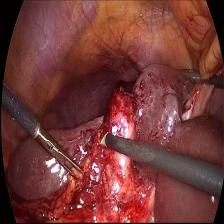Grasper: (34, 124, 84, 183)
Hook: (98, 124, 106, 154)
